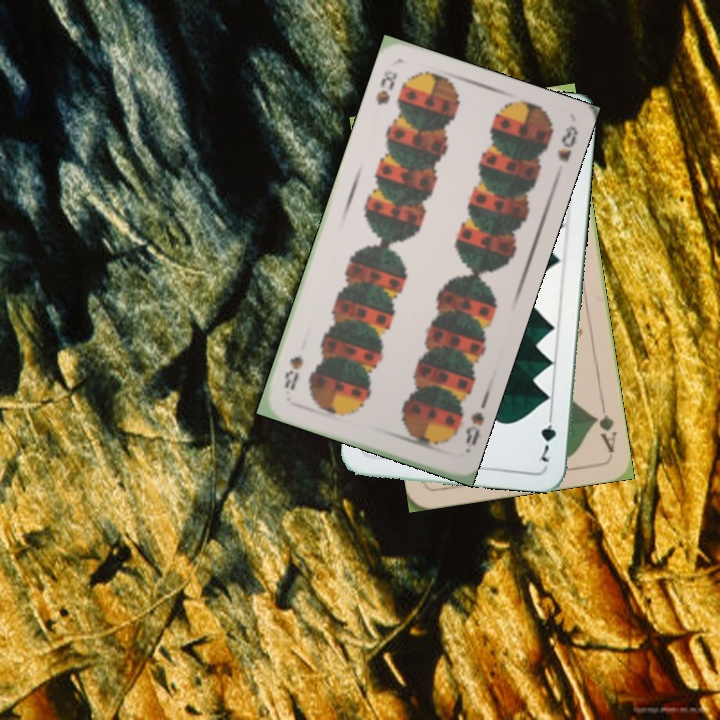G7: (533, 407, 559, 465)
GA: (589, 397, 619, 456)
S8: (371, 66, 400, 109), (461, 408, 487, 449)
